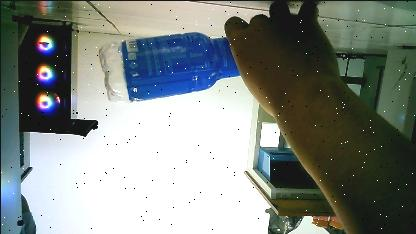Plastic Bottle: (80, 24, 263, 104)
